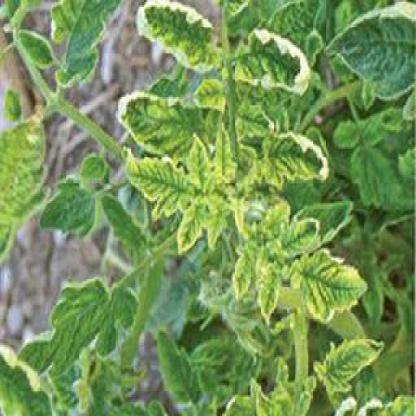Tomato leaf yellow virus: (1, 255, 163, 395), (252, 125, 356, 198), (230, 17, 321, 94), (293, 237, 373, 321), (113, 83, 204, 151), (126, 153, 208, 222), (133, 5, 221, 69), (308, 328, 391, 395), (161, 189, 237, 255), (228, 248, 264, 305), (257, 255, 286, 321)
